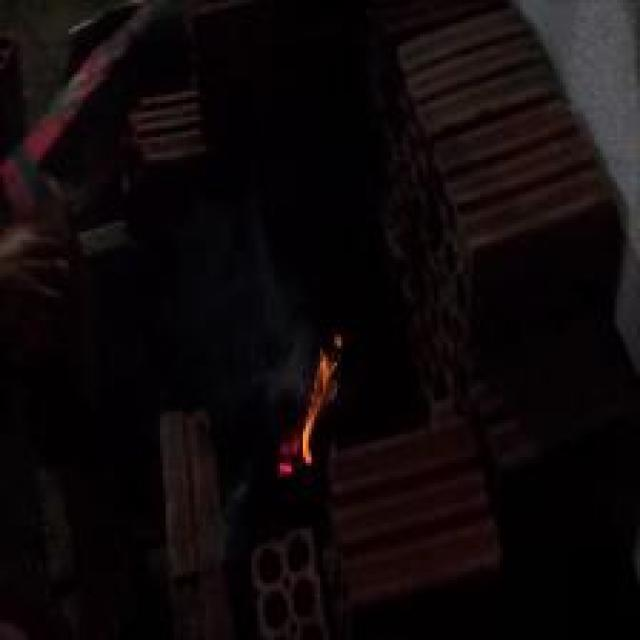Fire: (273, 341, 336, 476)
